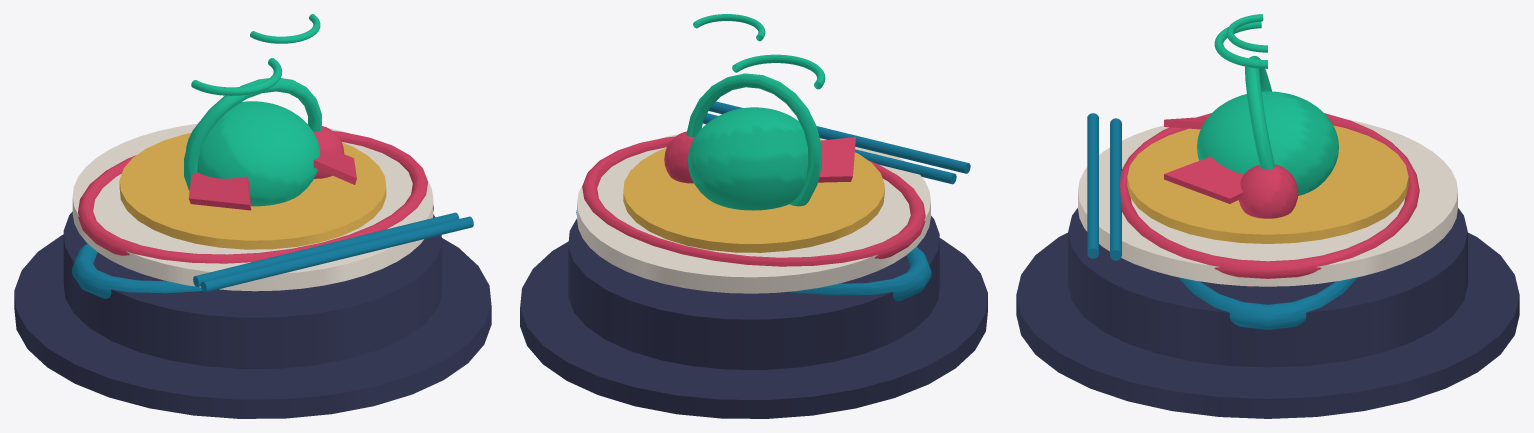
The model's file is 0334_揭秘食物图鉴_砚式盐槽.glb.
3 views of the same model, side by side, from view 1: azimuth 30°, elevation 25°; view 2: azimuth 150°, elevation 25°; view 3: azimuth 270°, elevation 25° (orthographic). The views are drawn at different scales.
Visible parts, largest first — view 1: card_0334; view 2: card_0334; view 3: card_0334.
Part boxes in pixels (x1=…): card_0334: x1=14, y1=14, x2=491, y2=418; card_0334: x1=520, y1=14, x2=987, y2=418; card_0334: x1=1016, y1=14, x2=1519, y2=418.
Size of the model in its own units: 1.49 by 1 by 1.52.
